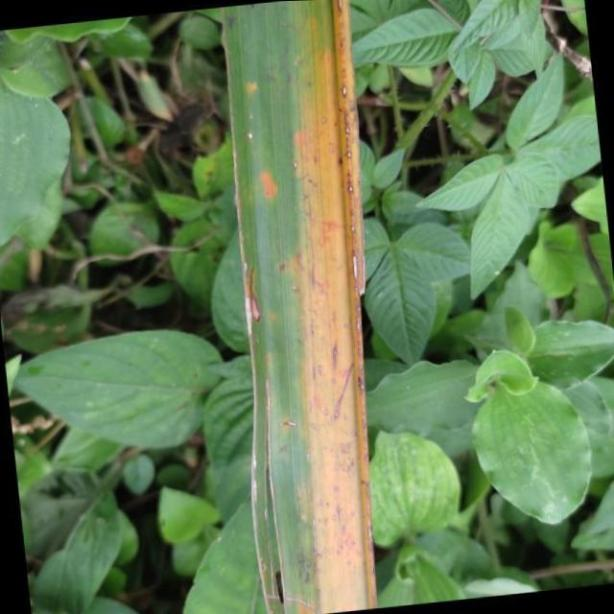Megnesium: (216, 0, 377, 614)
